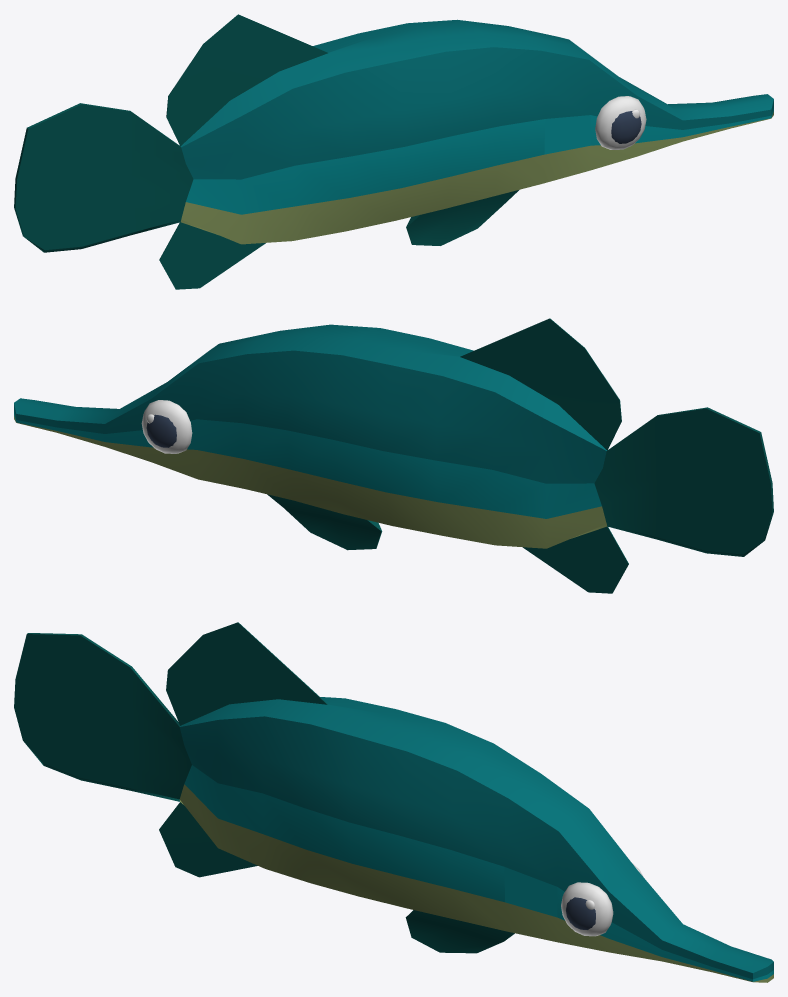
File: gar.fbx
3 renders of one model, top to bottom at view 1: azimuth 30°, elevation 25°; view 2: azimuth 150°, elevation 25°; view 3: azimuth 330°, elevation 25°, orthographic.
Visible parts, largest first — view 1: pCube7, pCube2, pCube3; view 2: pCube7, EYE1_pCube3; view 3: pCube7, pCube2, pCube3.
Boxes of the visible parts, x1,y1,x2,y2 form: pCube7: [14, 14, 773, 289]; pCube2: [595, 96, 646, 149]; pCube3: [611, 111, 641, 143]; pCube7: [14, 318, 773, 593]; EYE1_pCube3: [141, 400, 192, 453]; pCube7: [14, 622, 773, 982]; pCube2: [561, 882, 613, 936]; pCube3: [566, 897, 595, 929].
Bounding box in the file's own units: 2.17 × 0.7704 × 0.2724.
